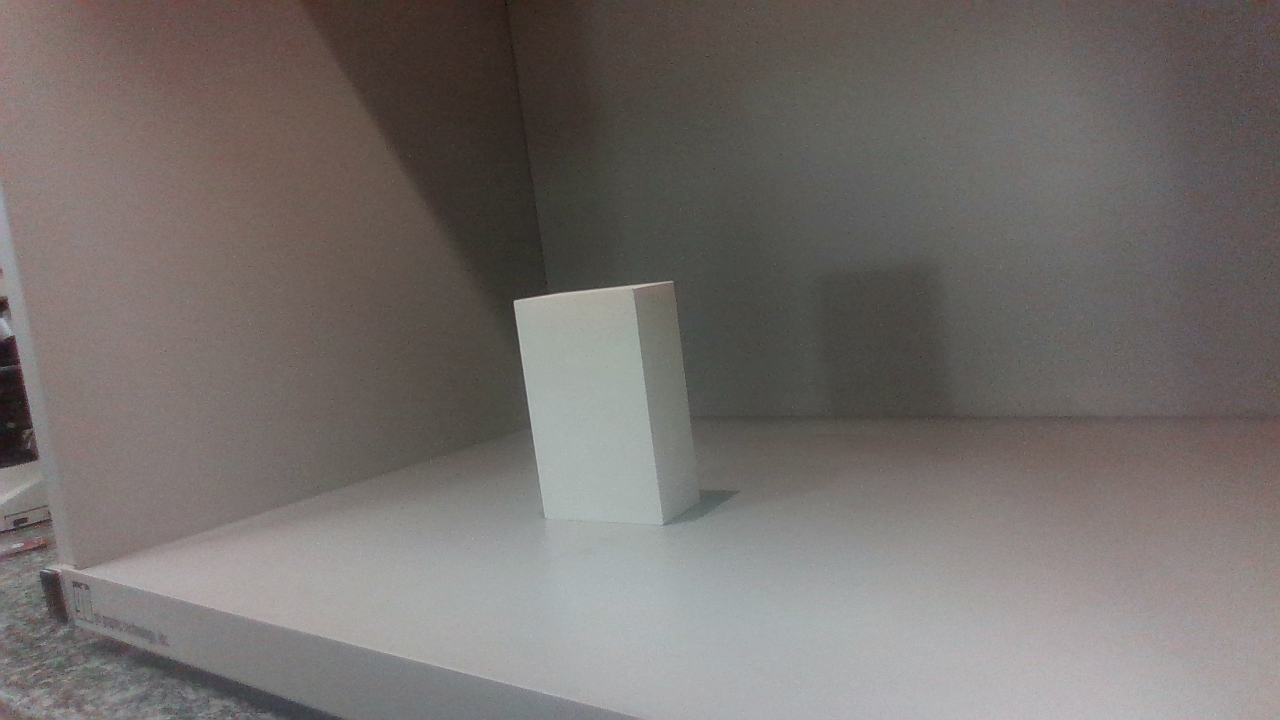Retangulo: (515, 280, 696, 526)
